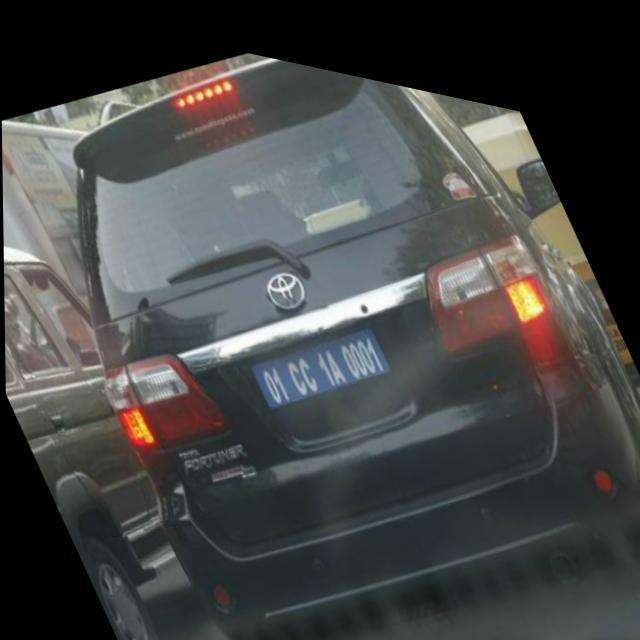license_plate: (240, 284, 396, 419)
